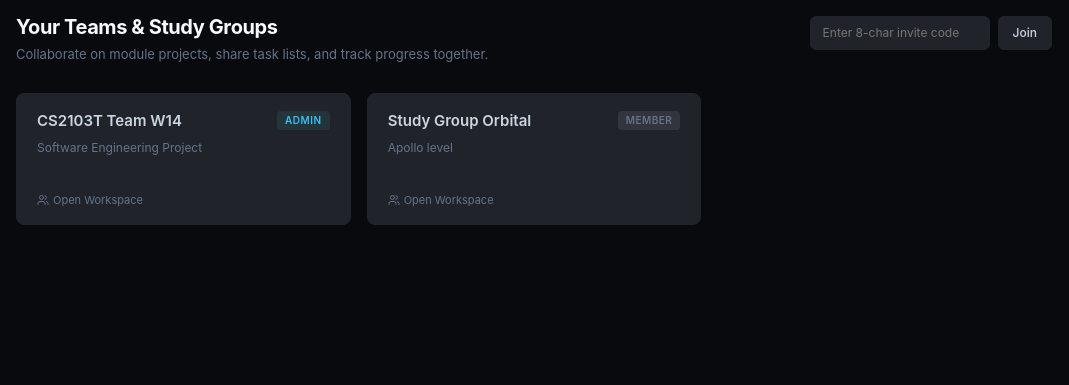
Scenario: GroupsView › opens group detail and displays tasks tab with filterable group tasks
Click the heading "CS2103T Team W14": (109, 121) [37,110,182,132]
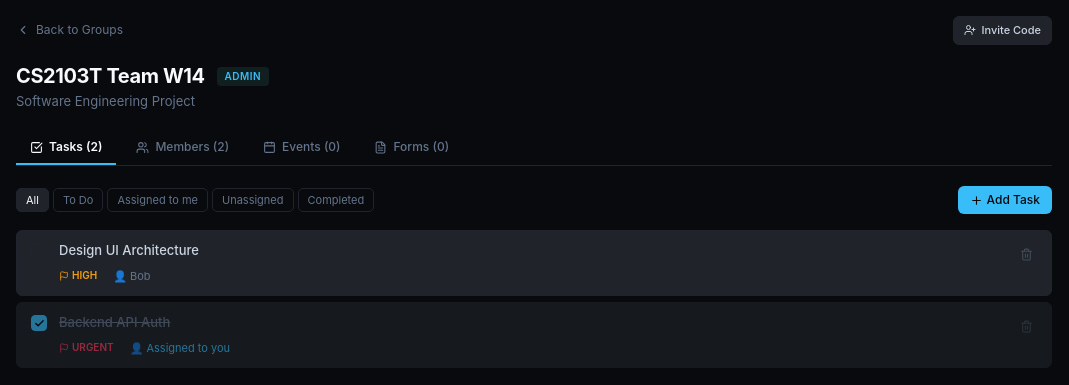
Result: the text "Design UI Architecture" is shown at [59,242,199,258]
Result: the text "Backend API Auth" is shown at [59,314,170,330]
Result: the text "👤 Bob" is shown at [107,266,156,285]
# Switch to Members tab (tabs expose the tab role for accessibility)
Click the tab "Members (2)": (183, 148) [122,131,243,165]
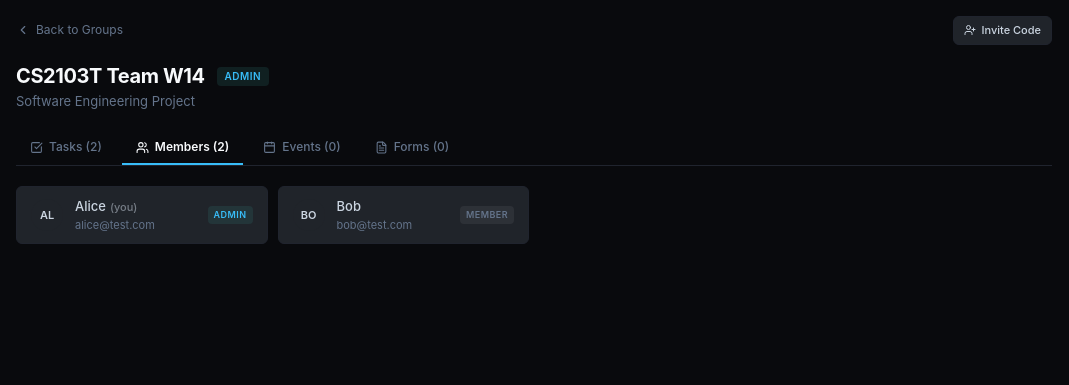
Result: the text "alice@test.com" is shown at [75,218,155,232]
Result: the text "bob@test.com" is shown at [336,218,412,232]
